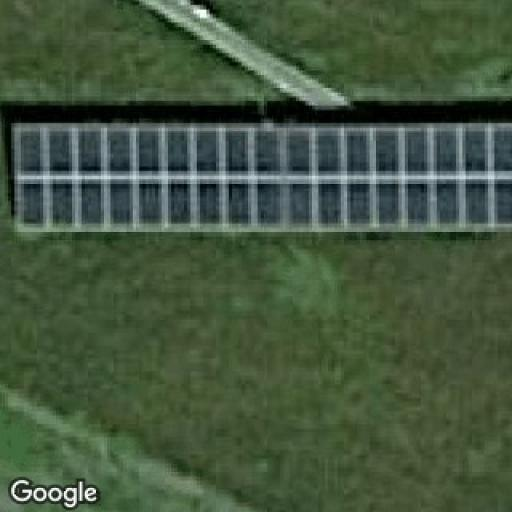solar-panel: (14, 122, 512, 232)
